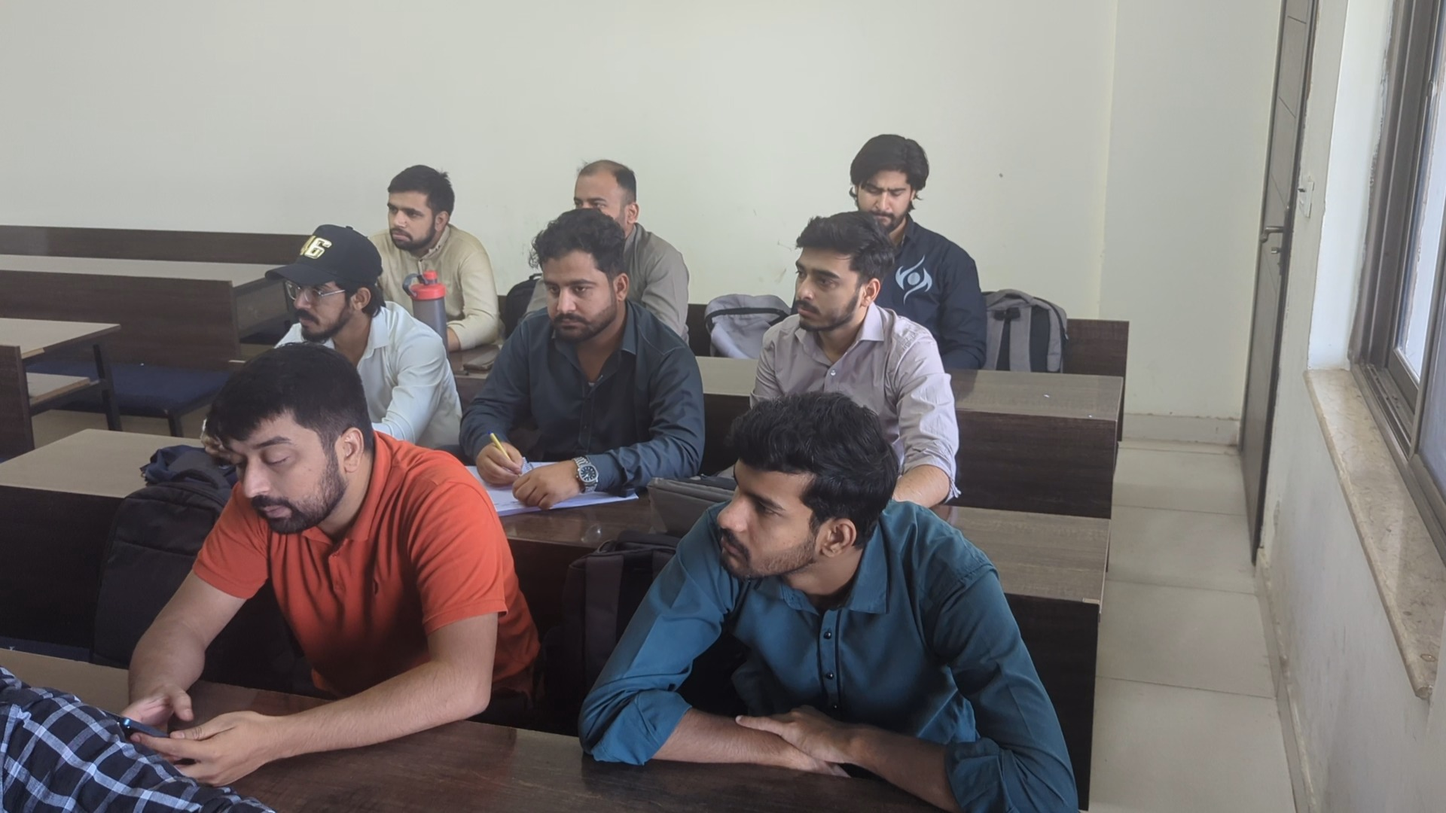look_forward: (576, 393, 1051, 796), (752, 209, 949, 400), (254, 217, 401, 345), (364, 156, 510, 279), (563, 142, 648, 206)
using_device: (91, 358, 543, 758), (821, 120, 997, 356)
write: (457, 208, 719, 503)
